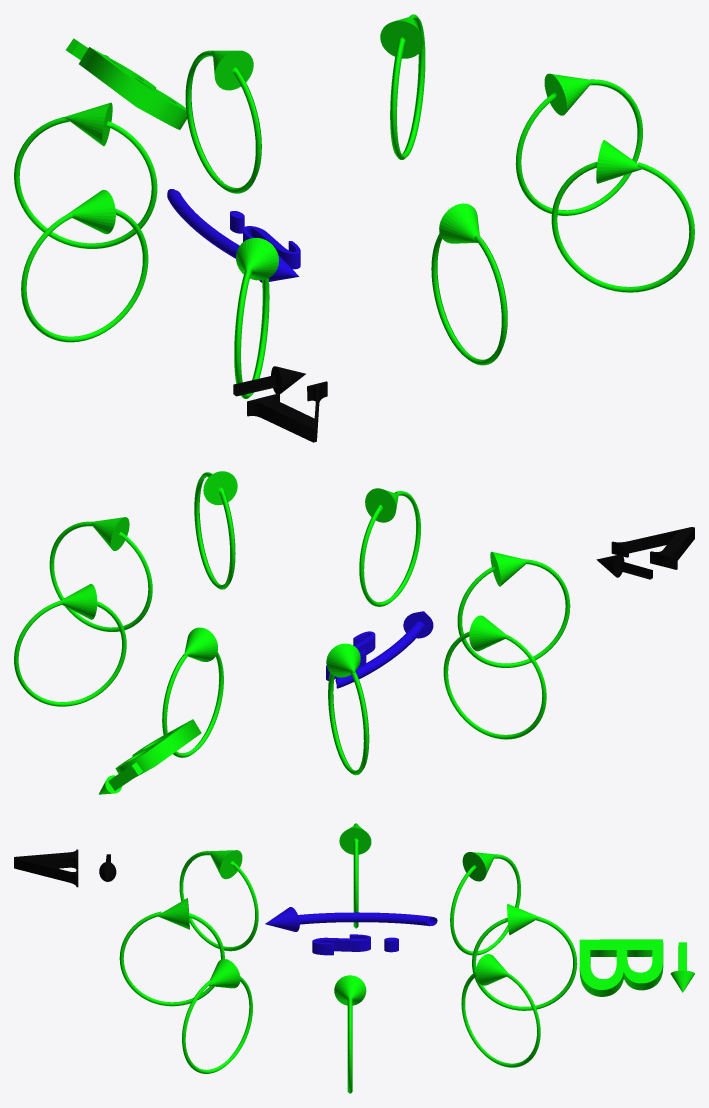
The model's file is cpExterno.dae.
3 renders of one model, top to bottom at view 1: azimuth 30°, elevation 25°; view 2: azimuth 150°, elevation 25°; view 3: azimuth 270°, elevation 25°, orthographic. The views are drawn at different scales.
Visible parts, largest first — view 1: Cube.002, Cube.001, Texto.005, Cono.001, NurbsCurve, Texto.011; view 2: Cube.001, Cube.002, Cono.001, Texto.005, NurbsCurve, Texto.011; view 3: Cube.001, Cube.002, Texto.005, NurbsCurve, Cono.001, Texto.011.
Boxes of the visible parts, x1,y1,x2,y2 form: Cube.002: (21, 50, 642, 365); Cube.001: (14, 14, 694, 398); Texto.005: (66, 38, 187, 129); Cono.001: (233, 366, 327, 442); NurbsCurve: (167, 189, 299, 282); Texto.011: (230, 211, 300, 269); Cube.001: (14, 471, 570, 775); Cube.002: (49, 488, 546, 757); Cono.001: (596, 527, 694, 579); Texto.005: (98, 719, 201, 794); NurbsCurve: (335, 611, 433, 688); Texto.011: (326, 631, 375, 680); Cube.001: (179, 850, 540, 1073); Cube.002: (119, 823, 577, 1093); Texto.005: (579, 939, 694, 996); NurbsCurve: (265, 907, 437, 931); Cono.001: (14, 849, 116, 887); Texto.011: (312, 934, 398, 955).
Size of the model in its own units: 1.37 by 1.81 by 0.337.
